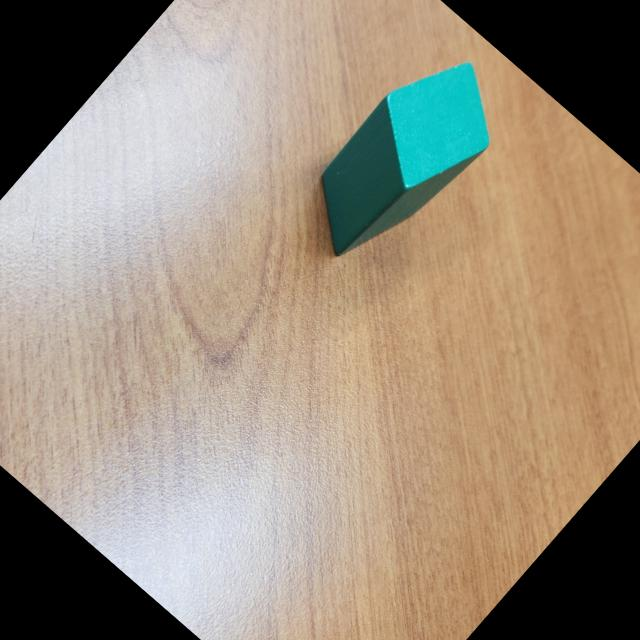green: (281, 32, 524, 288)
